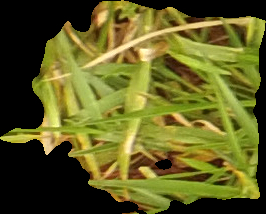grass: (1, 1, 264, 212)
